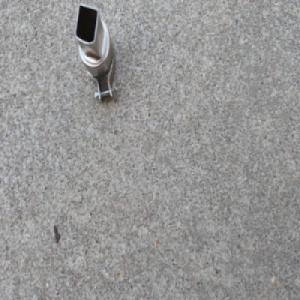MetalPart: (73, 2, 120, 107)
